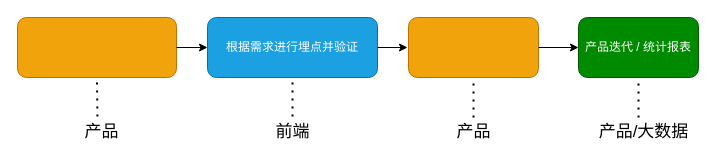
This 716x165 diagram has some shape labels left out. Each missing label, with the centre of its shape:
"数据分析" goes at point (473, 47).
"根据规范输出埋点需求文档 （页面、事件、属性等）" goes at point (96, 47).
